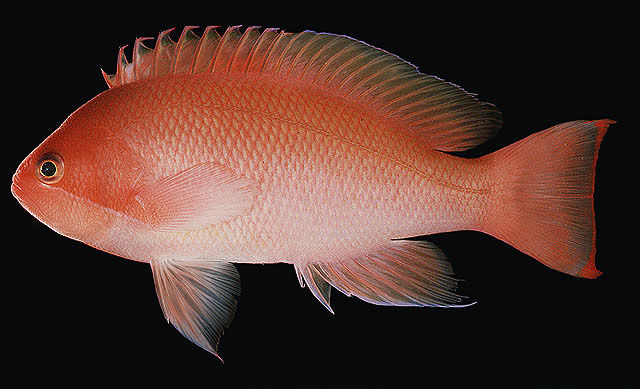fish: (11, 24, 618, 364)
